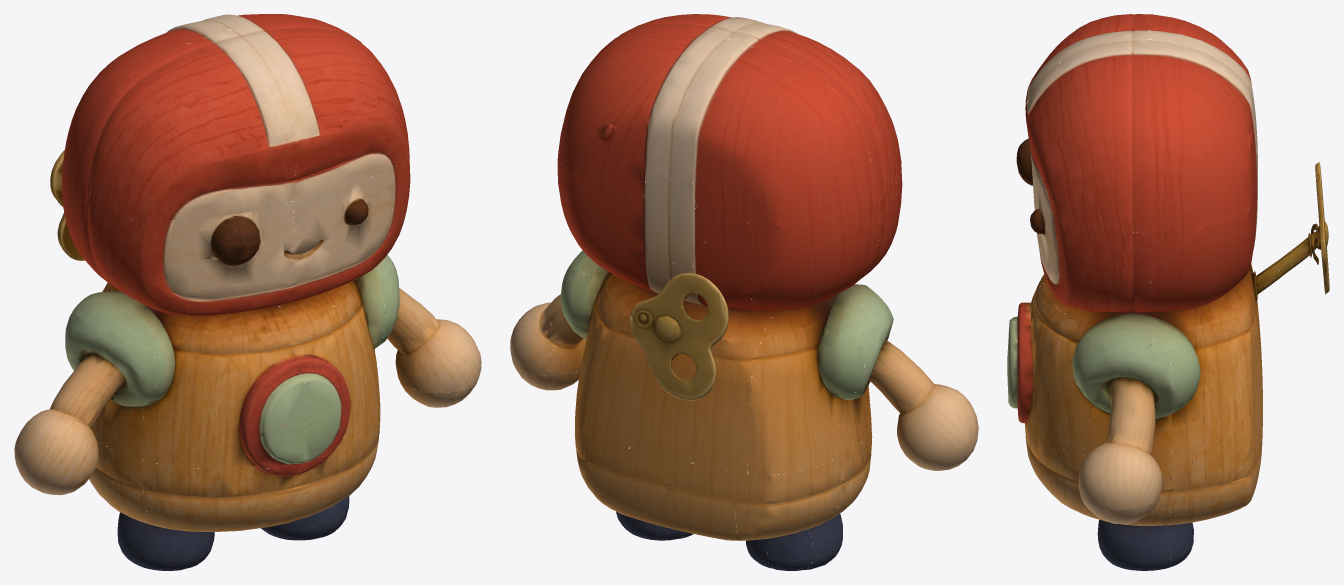
File: game.glb
The picture shows the model from 3 angles, left to right: view 1: azimuth 30°, elevation 25°; view 2: azimuth 150°, elevation 25°; view 3: azimuth 270°, elevation 25°; orthographic projection. The views are drawn at different scales.
Visible parts, largest first — view 1: geometry_0; view 2: geometry_0; view 3: geometry_0.
Part boxes in pixels (box(x1,y1,x2,y2)): geometry_0: box(14, 14, 481, 570); geometry_0: box(510, 14, 978, 570); geometry_0: box(1007, 14, 1329, 570).
Bounding box in the file's own units: 0.9412 × 1 × 0.6014.
1 material, 1 textured.
